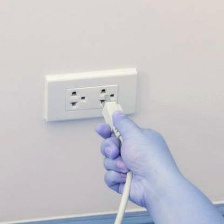three_eye_plug: (41, 64, 141, 124)
